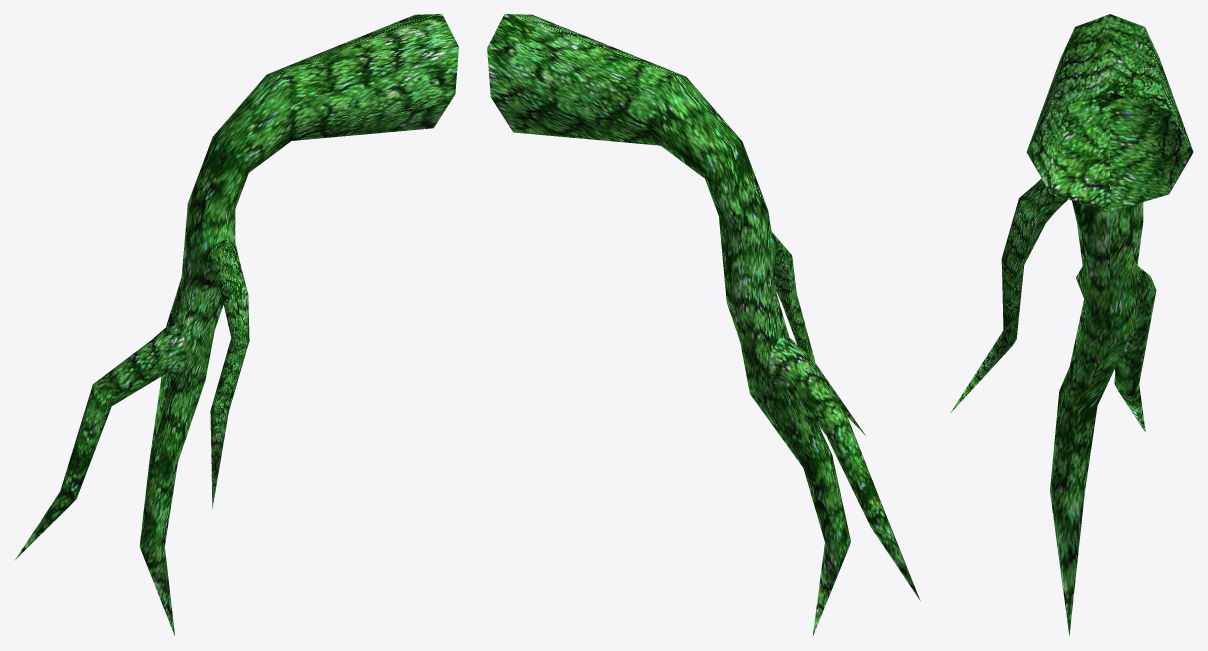
3 views of the same model, side by side, from view 1: azimuth 30°, elevation 25°; view 2: azimuth 150°, elevation 25°; view 3: azimuth 270°, elevation 25° (orthographic). The views are drawn at different scales.
Visible parts, largest first — view 1: Root; view 2: Root; view 3: Root.
Boxes of the visible parts, <box> form: Root: <box>14,14,458,635</box>; Root: <box>487,14,920,636</box>; Root: <box>950,14,1193,636</box>.
Bounding box in the file's own units: 12.72 × 15.91 × 4.83.
Materials: 1 (1 with a texture image).
